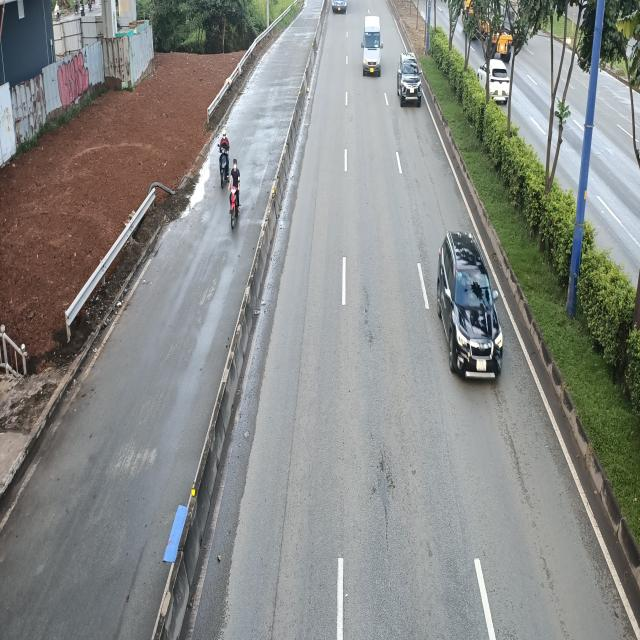car: (438, 228, 504, 380), (396, 52, 422, 106)
van: (361, 14, 383, 76)
